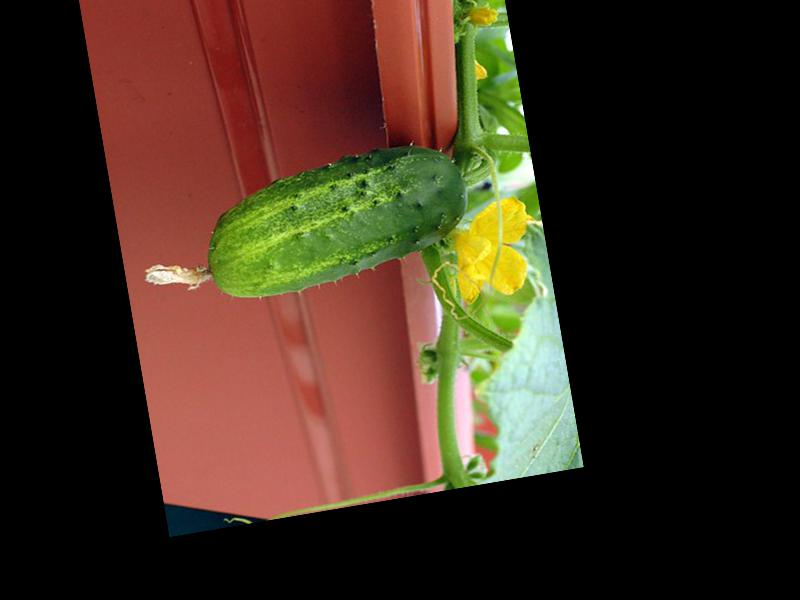Cucumber: (128, 136, 479, 317)
